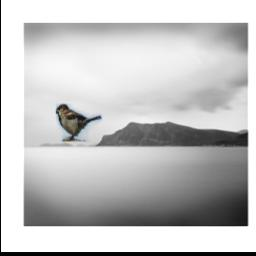Sparrow: (56, 104, 102, 141)
